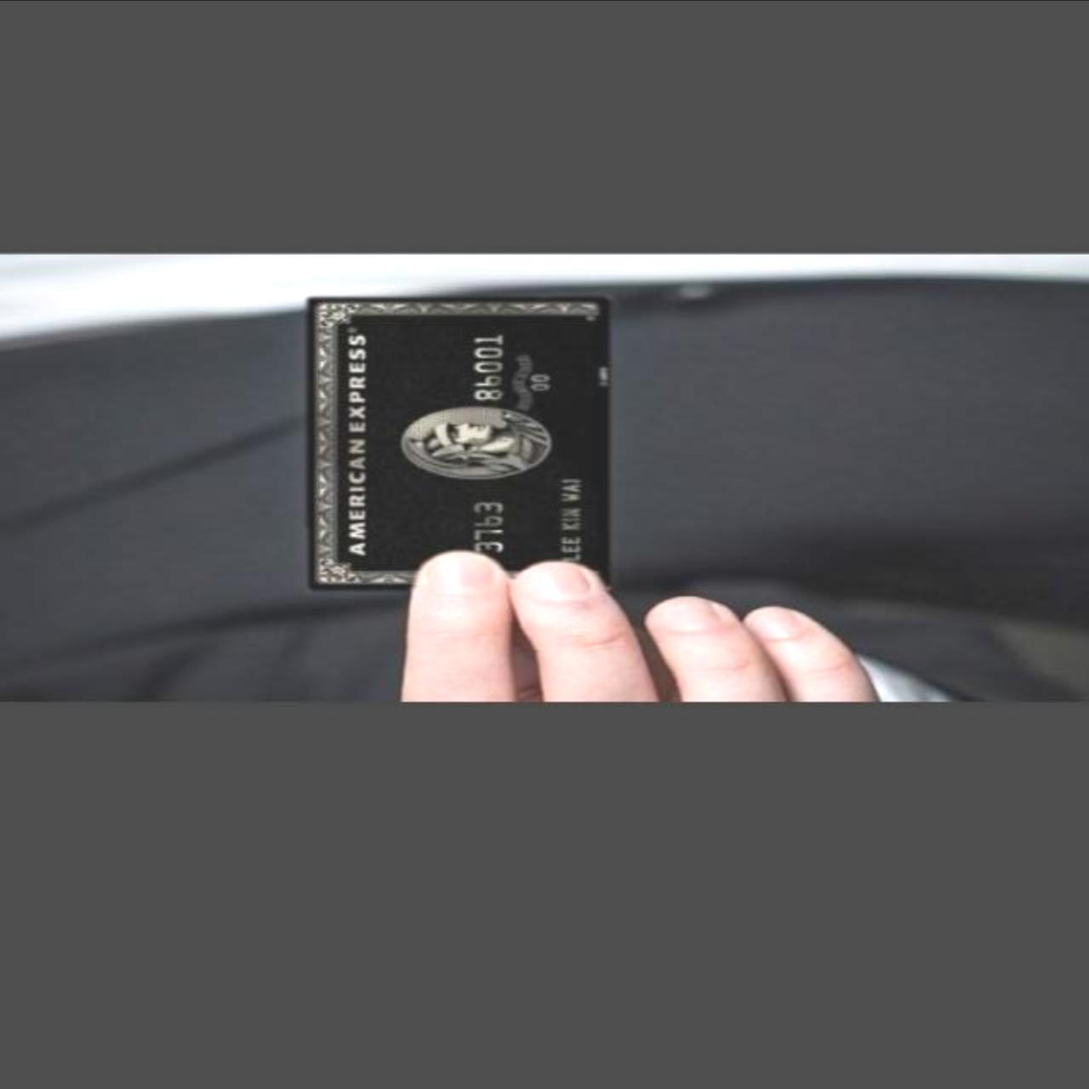credit_card: (308, 297, 611, 588)
